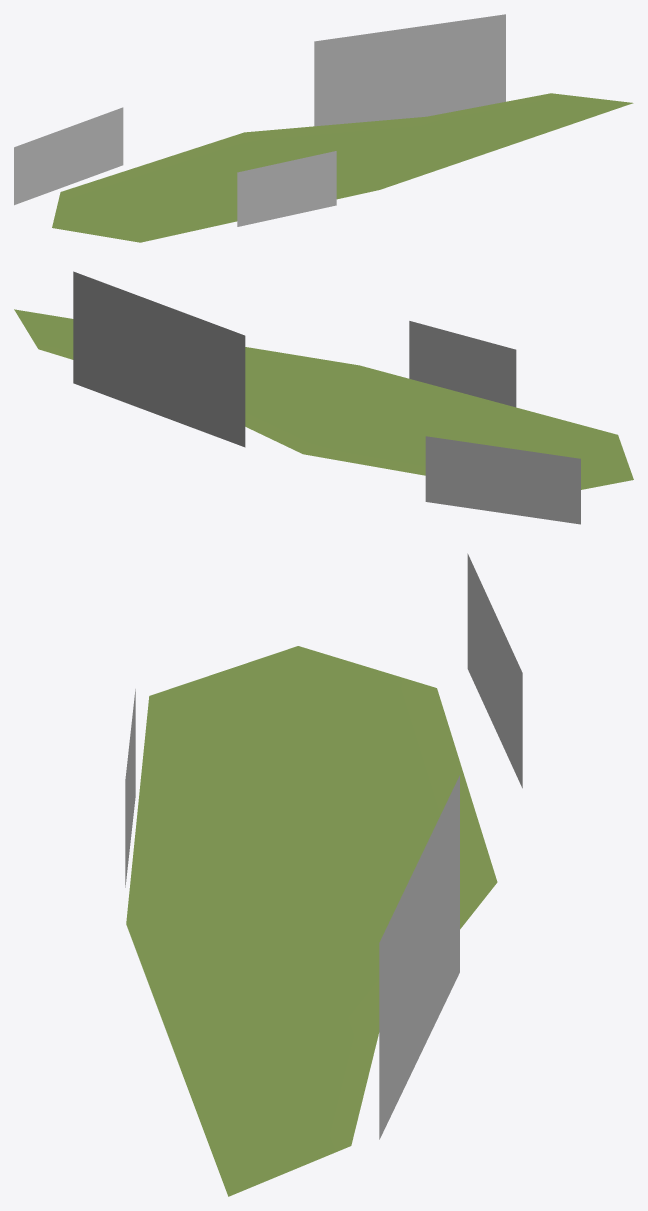
The model's file is Mesh_Battle_Forest_Ground_10.FBX.
The picture shows the model from 3 angles, top to bottom: view 1: azimuth 30°, elevation 25°; view 2: azimuth 150°, elevation 25°; view 3: azimuth 270°, elevation 25°; orthographic projection. The views are drawn at different scales.
Parts seen in each view (by area): view 1: Mesh_Battle_Forest_Ground_10, Mesh_Battle_Forest_Grass_13; view 2: Mesh_Battle_Forest_Grass_13, Mesh_Battle_Forest_Ground_10; view 3: Mesh_Battle_Forest_Ground_10, Mesh_Battle_Forest_Grass_13.
Boxes of the visible parts, <box> form: Mesh_Battle_Forest_Ground_10: <box>52,93,633,242</box>; Mesh_Battle_Forest_Grass_13: <box>14,14,505,226</box>; Mesh_Battle_Forest_Grass_13: <box>73,271,580,524</box>; Mesh_Battle_Forest_Ground_10: <box>14,309,633,489</box>; Mesh_Battle_Forest_Ground_10: <box>126,646,497,1196</box>; Mesh_Battle_Forest_Grass_13: <box>125,553,522,1139</box>.
Bounding box in the file's own units: 120 × 19.99 × 36.47.
